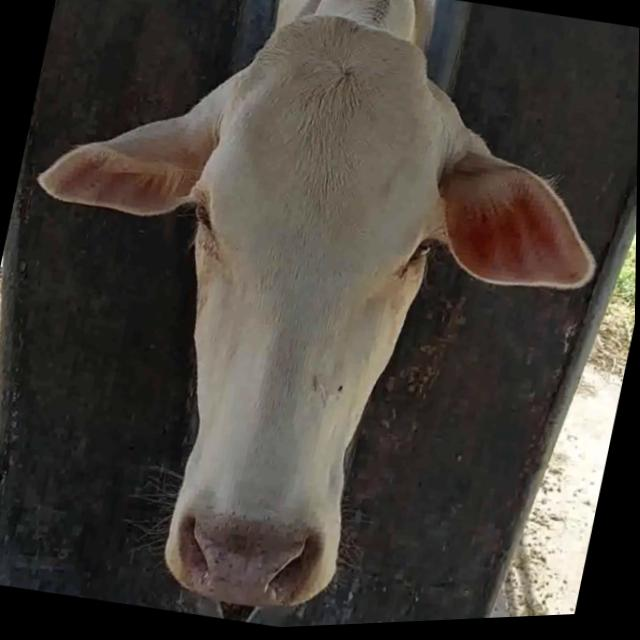cowFace: (118, 0, 482, 630)
